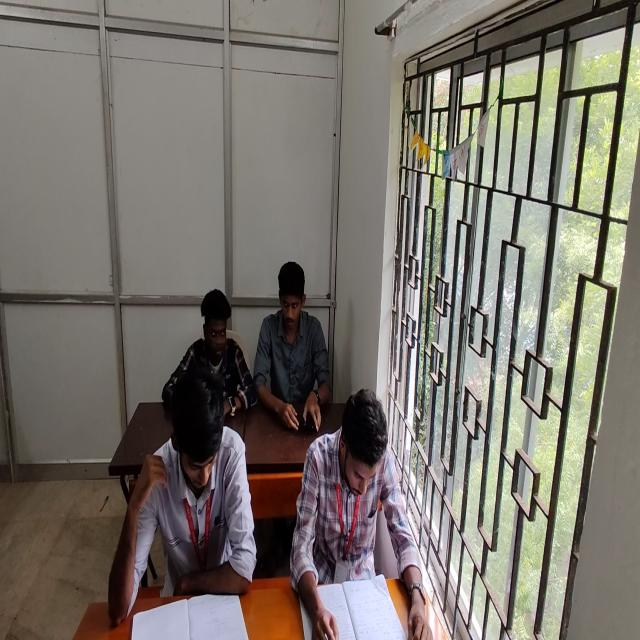reading: (109, 366, 258, 624), (291, 388, 411, 640)
using_mobile: (251, 261, 328, 432), (163, 287, 257, 418)
